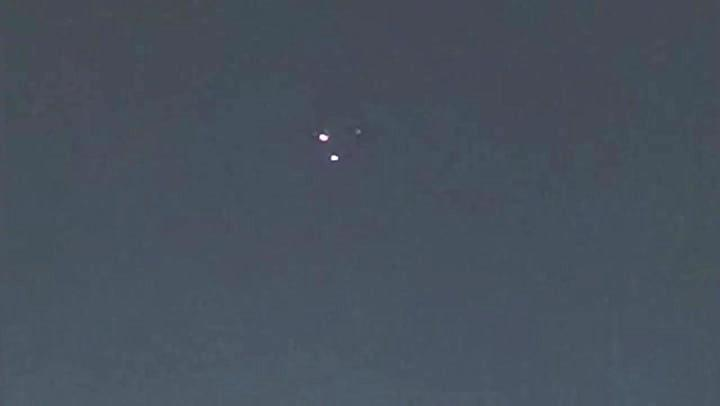Plane: (300, 121, 344, 173)
